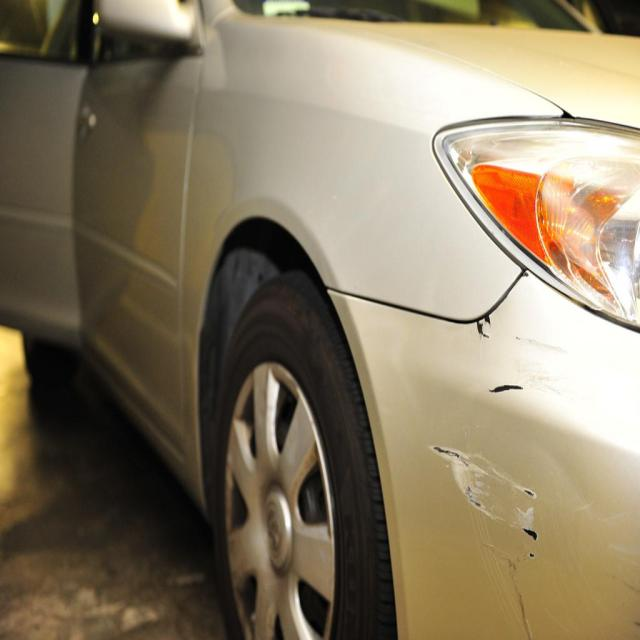Damage: (428, 356, 612, 640)
